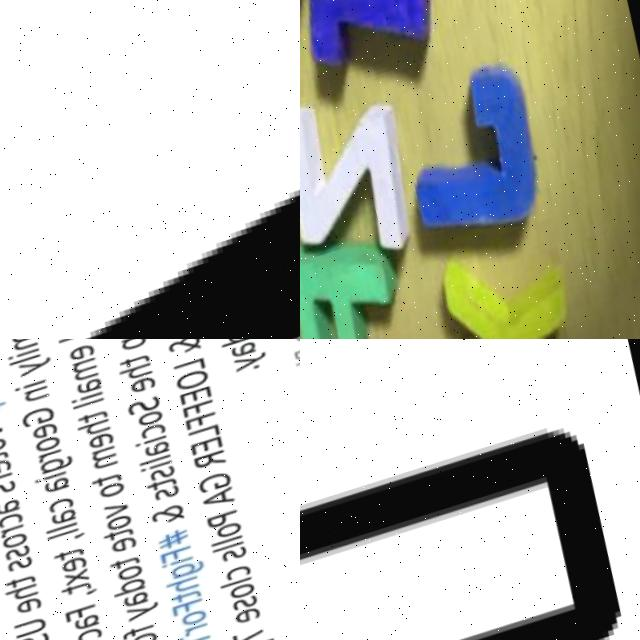3: (236, 629, 269, 640)
F: (300, 233, 421, 339)
J: (0, 0, 300, 339), (380, 62, 560, 270)
T: (300, 0, 462, 110)
X: (429, 239, 606, 339)
Z: (300, 87, 433, 274)
